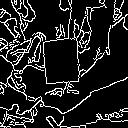cube: (38, 35, 83, 86)
